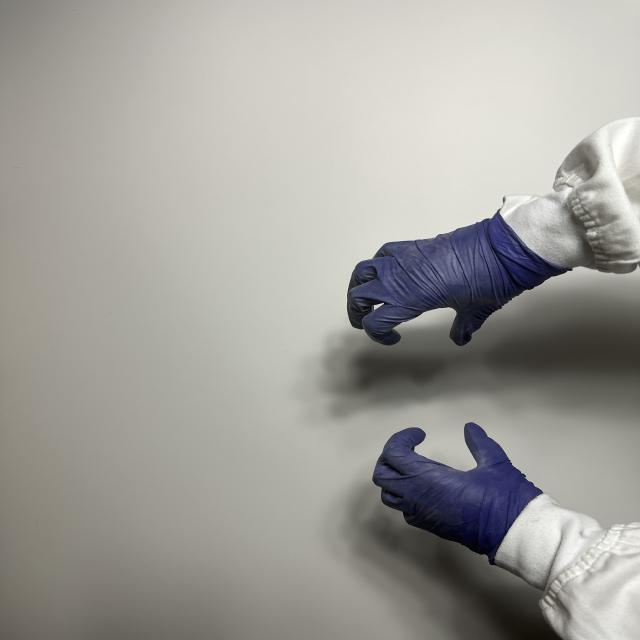gloves_contaminated: (347, 213, 568, 346), (373, 423, 542, 563)
